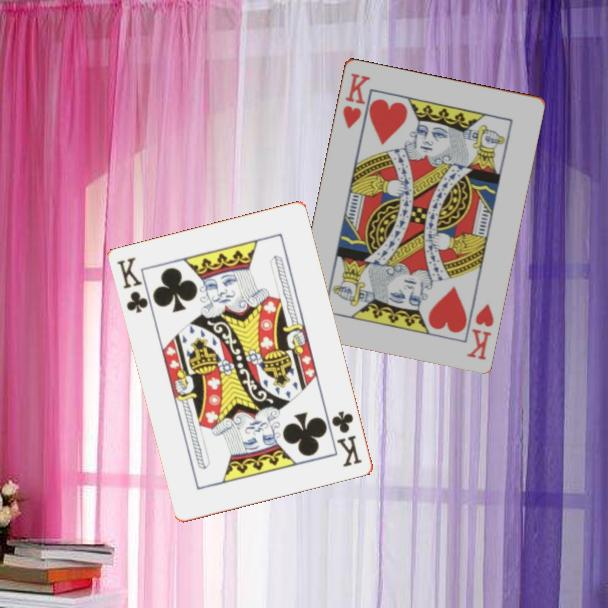c13: (113, 254, 151, 316), (328, 407, 365, 470)
h13: (339, 69, 373, 132), (463, 300, 496, 363)
